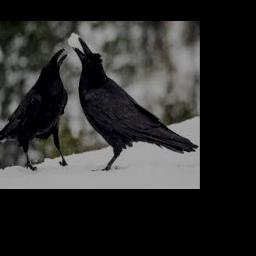Crow: (73, 36, 199, 171), (0, 48, 69, 172)
